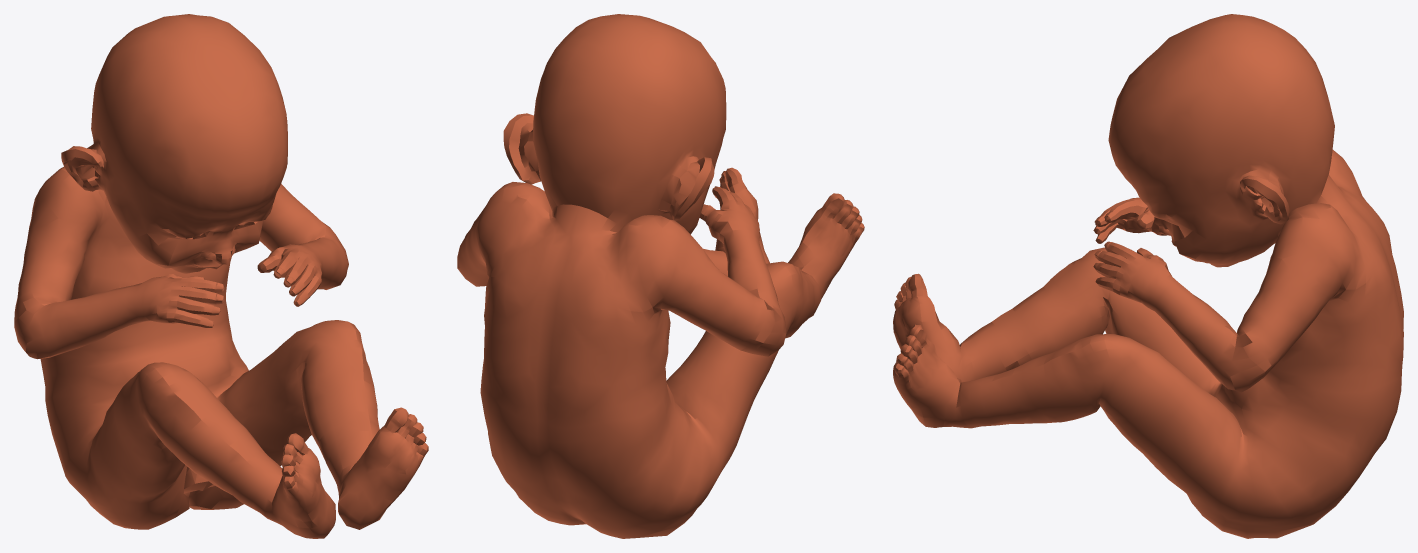
File: fetus.glb
3 renders of one model, left to right at view 1: azimuth 30°, elevation 25°; view 2: azimuth 150°, elevation 25°; view 3: azimuth 270°, elevation 25°, orthographic.
Parts seen in each view (by area): view 1: Mesh (2)_SKIN_0; view 2: Mesh (2)_SKIN_0; view 3: Mesh (2)_SKIN_0.
Part boxes in pixels (bbox=[...]): Mesh (2)_SKIN_0: bbox=[14, 14, 428, 538]; Mesh (2)_SKIN_0: bbox=[457, 14, 864, 538]; Mesh (2)_SKIN_0: bbox=[893, 14, 1403, 538].
Size of the model in its own units: 0.6706 by 0.9861 by 0.9261.
